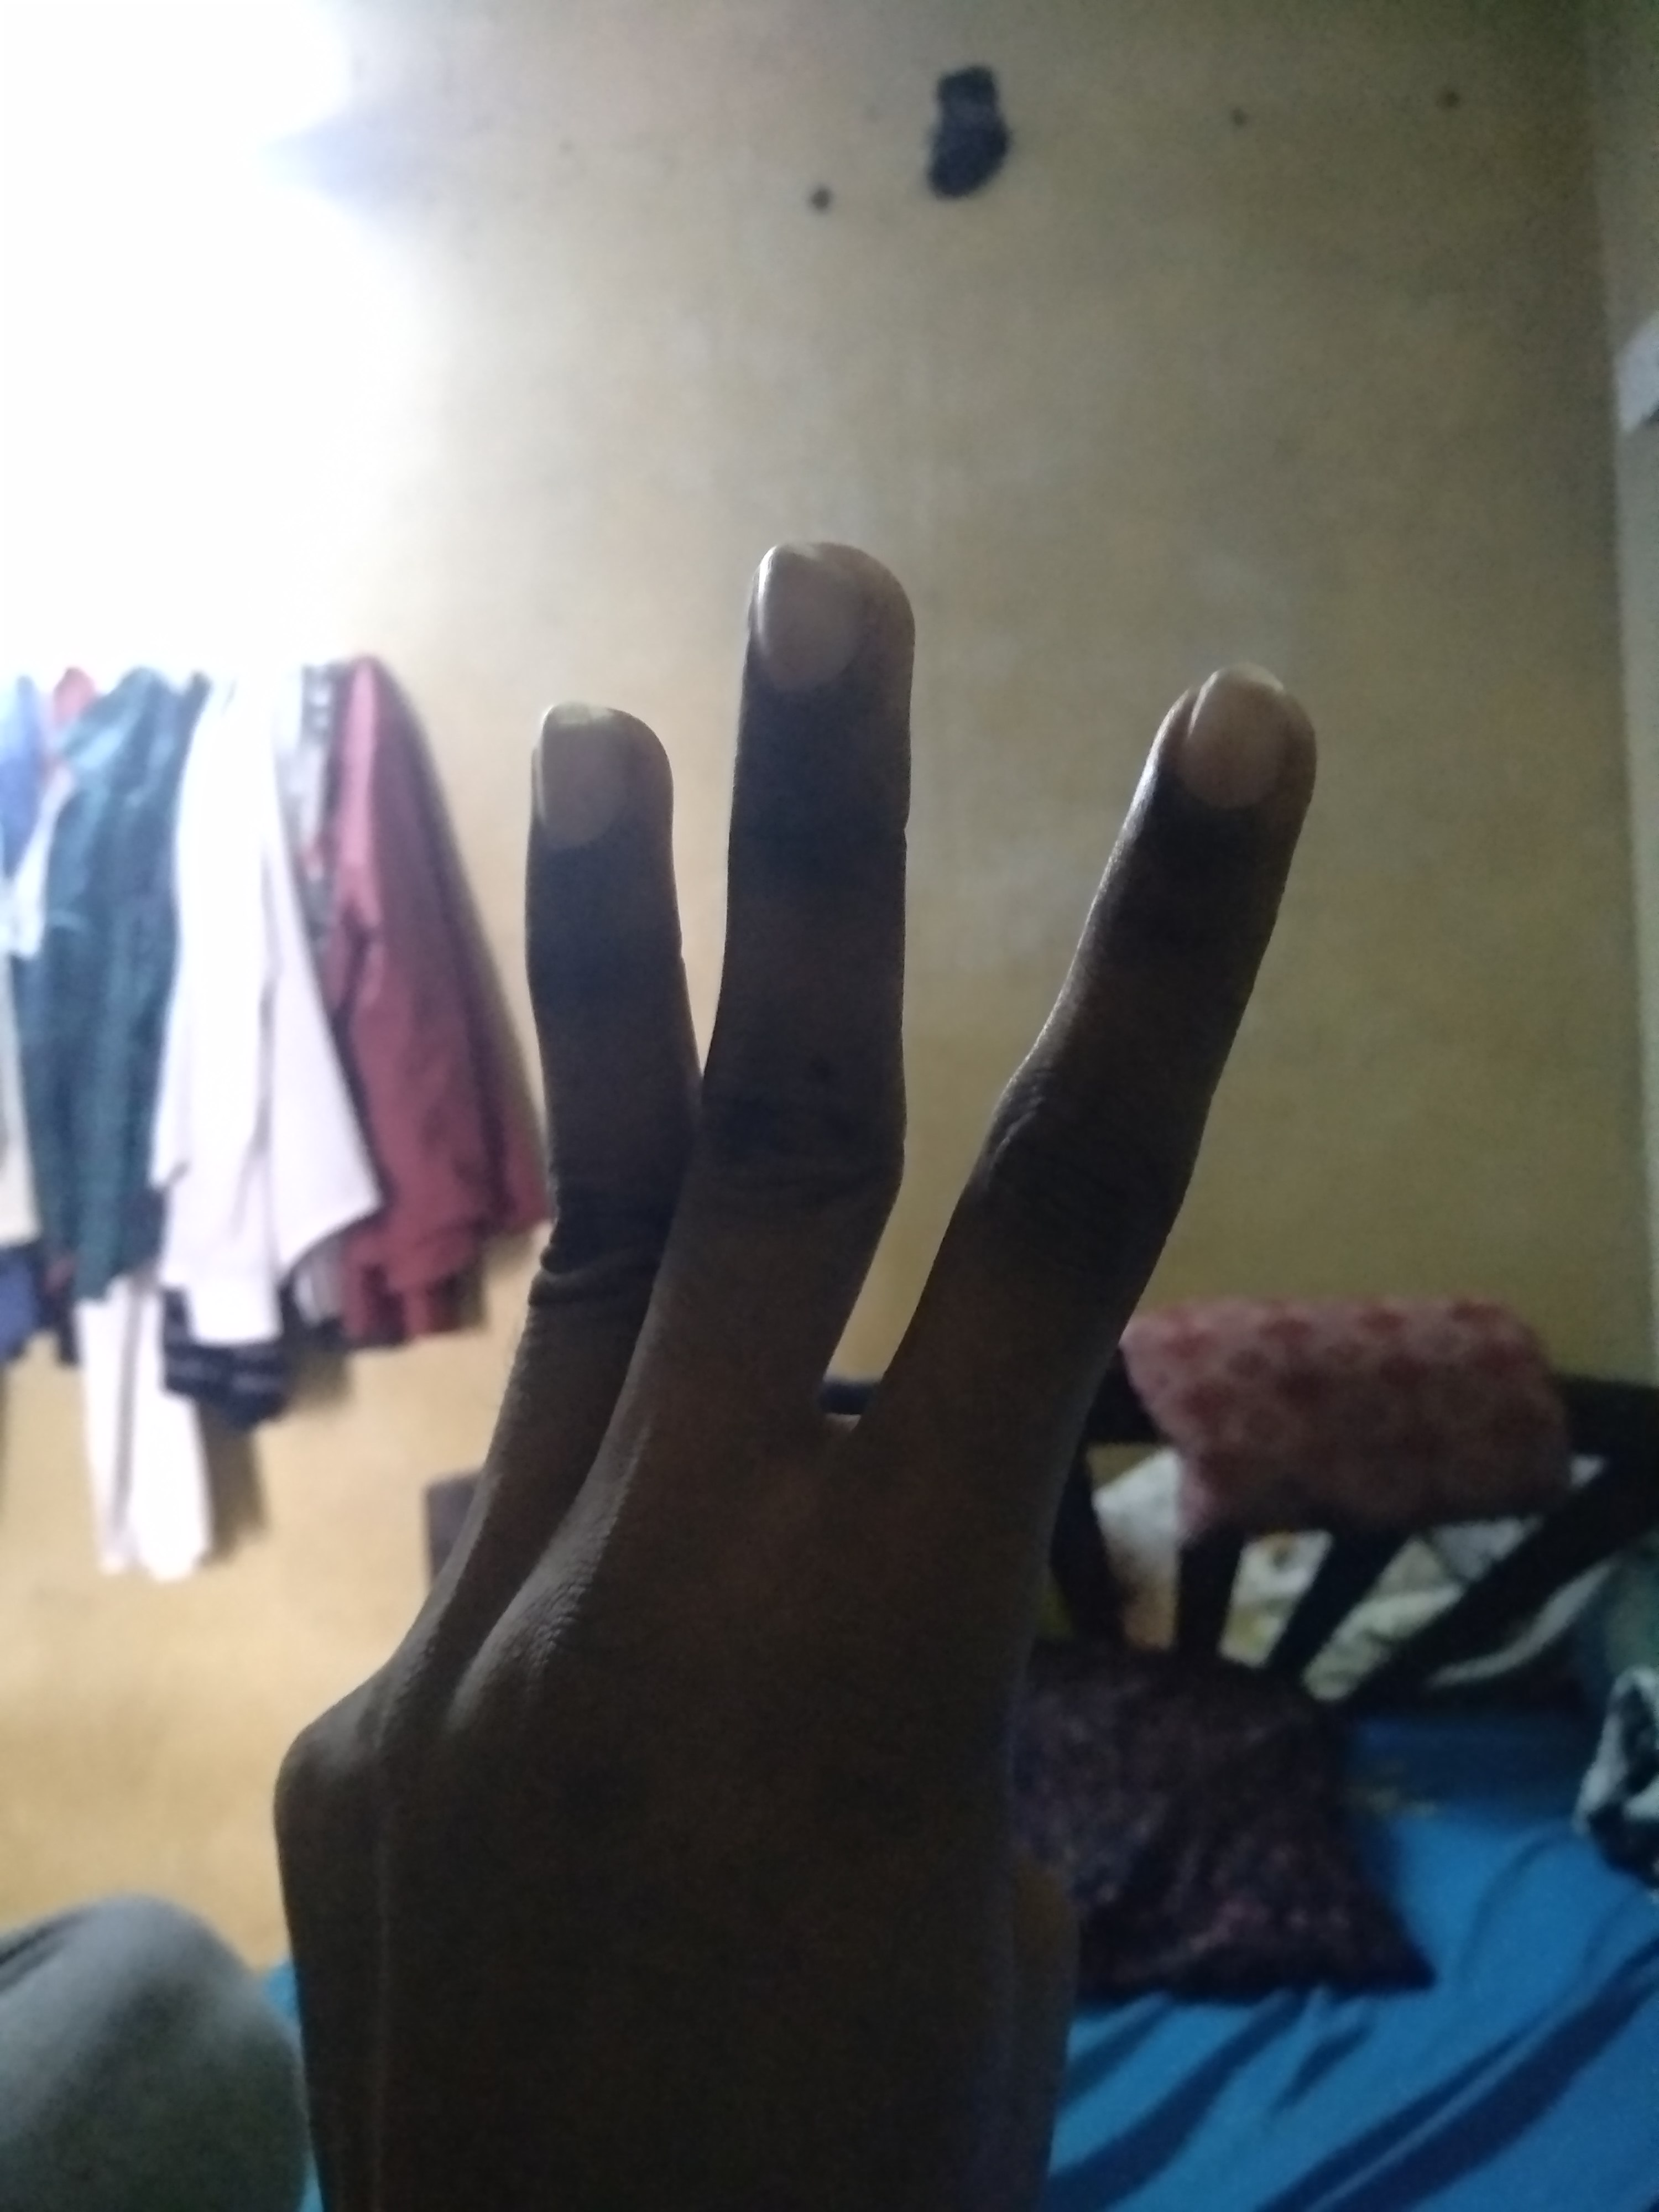three: (471, 564, 835, 1078)
